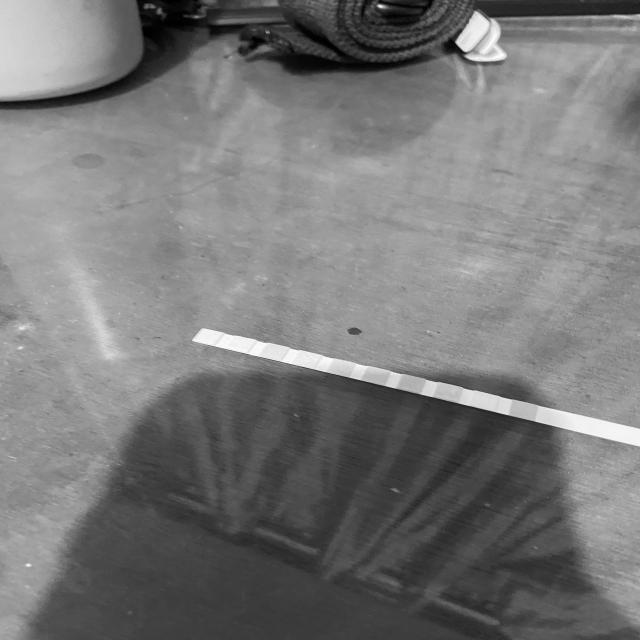Bilirubin: (475, 396, 495, 407)
Blood: (367, 372, 385, 381)
Glucose: (514, 404, 533, 415)
Ketone: (437, 388, 459, 396)
Leukocytes: (201, 334, 216, 340)
Nitrite: (233, 341, 250, 349)
Protein: (299, 357, 318, 364)
SpGravity: (401, 379, 422, 388)
Urobilinogen: (266, 348, 283, 355)
background: (0, 0, 640, 640)
pH: (333, 364, 351, 372)
strip: (192, 329, 640, 447)
